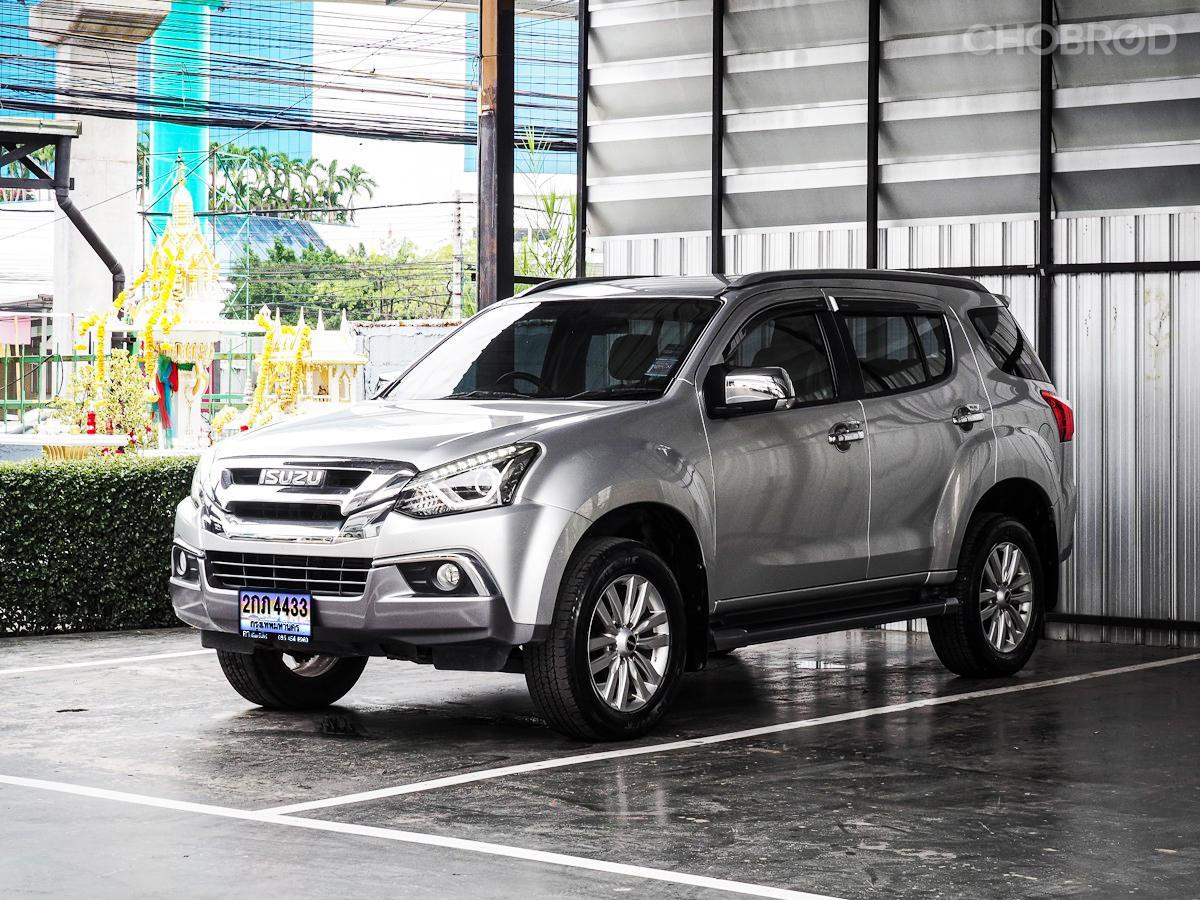license-plate: (233, 586, 317, 654)
